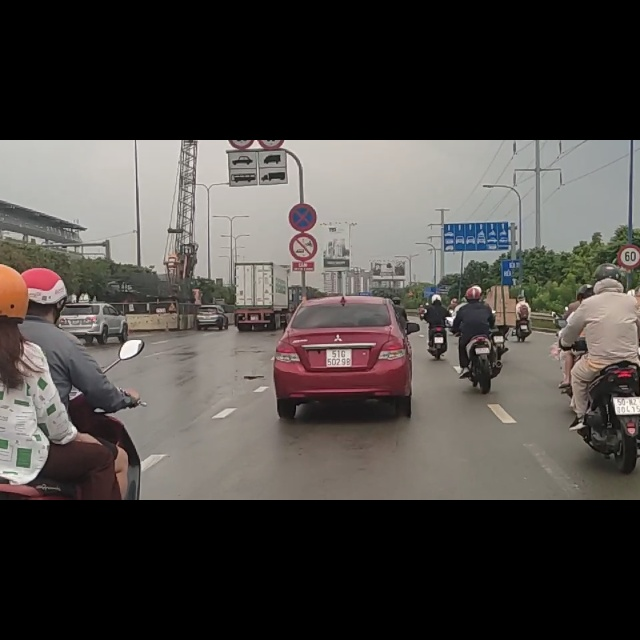bien_chi_dan: (289, 113, 317, 160), (618, 187, 640, 226)
